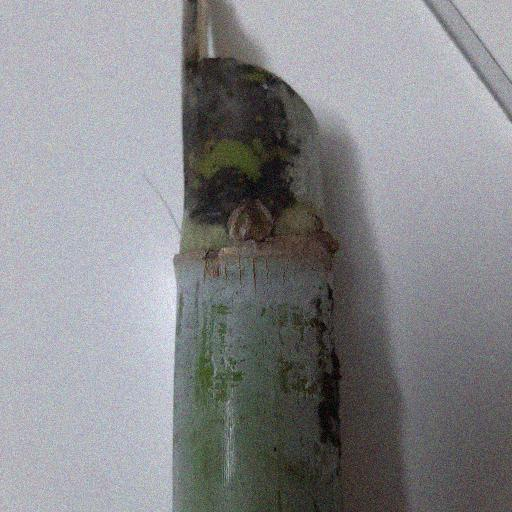Bud: (230, 204, 267, 239)
